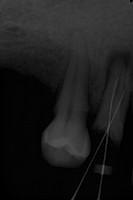Furcation Involvement: (104, 44, 132, 89)
